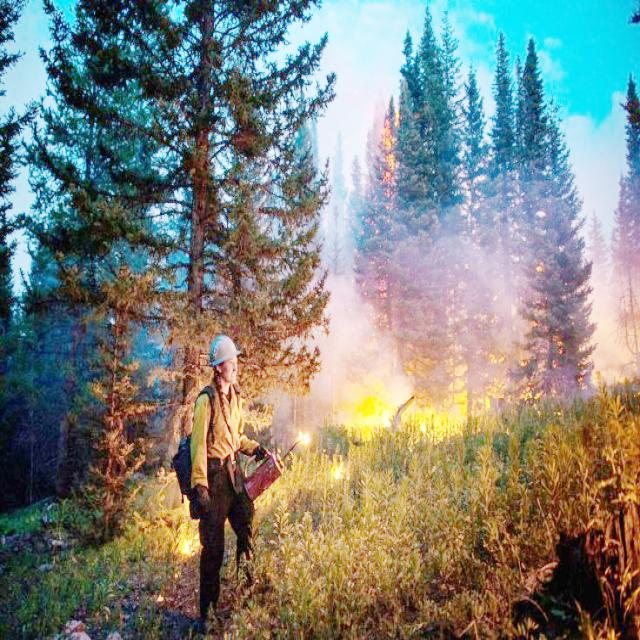api: (371, 399, 465, 437), (171, 531, 200, 564), (296, 426, 320, 452), (326, 462, 351, 480)
asap: (329, 267, 377, 396), (600, 261, 638, 376)
